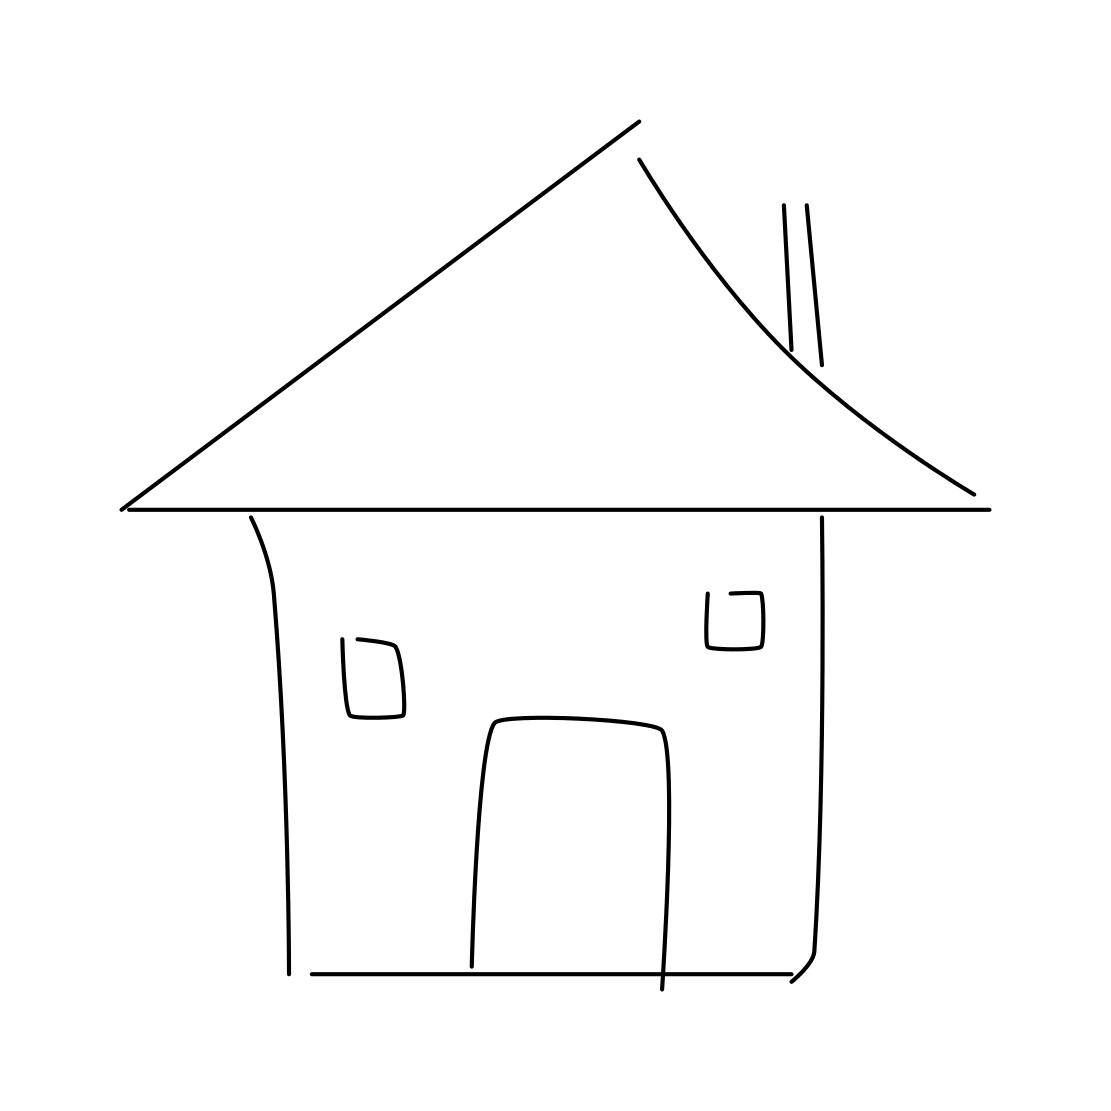House: (103, 96, 1004, 1007)
